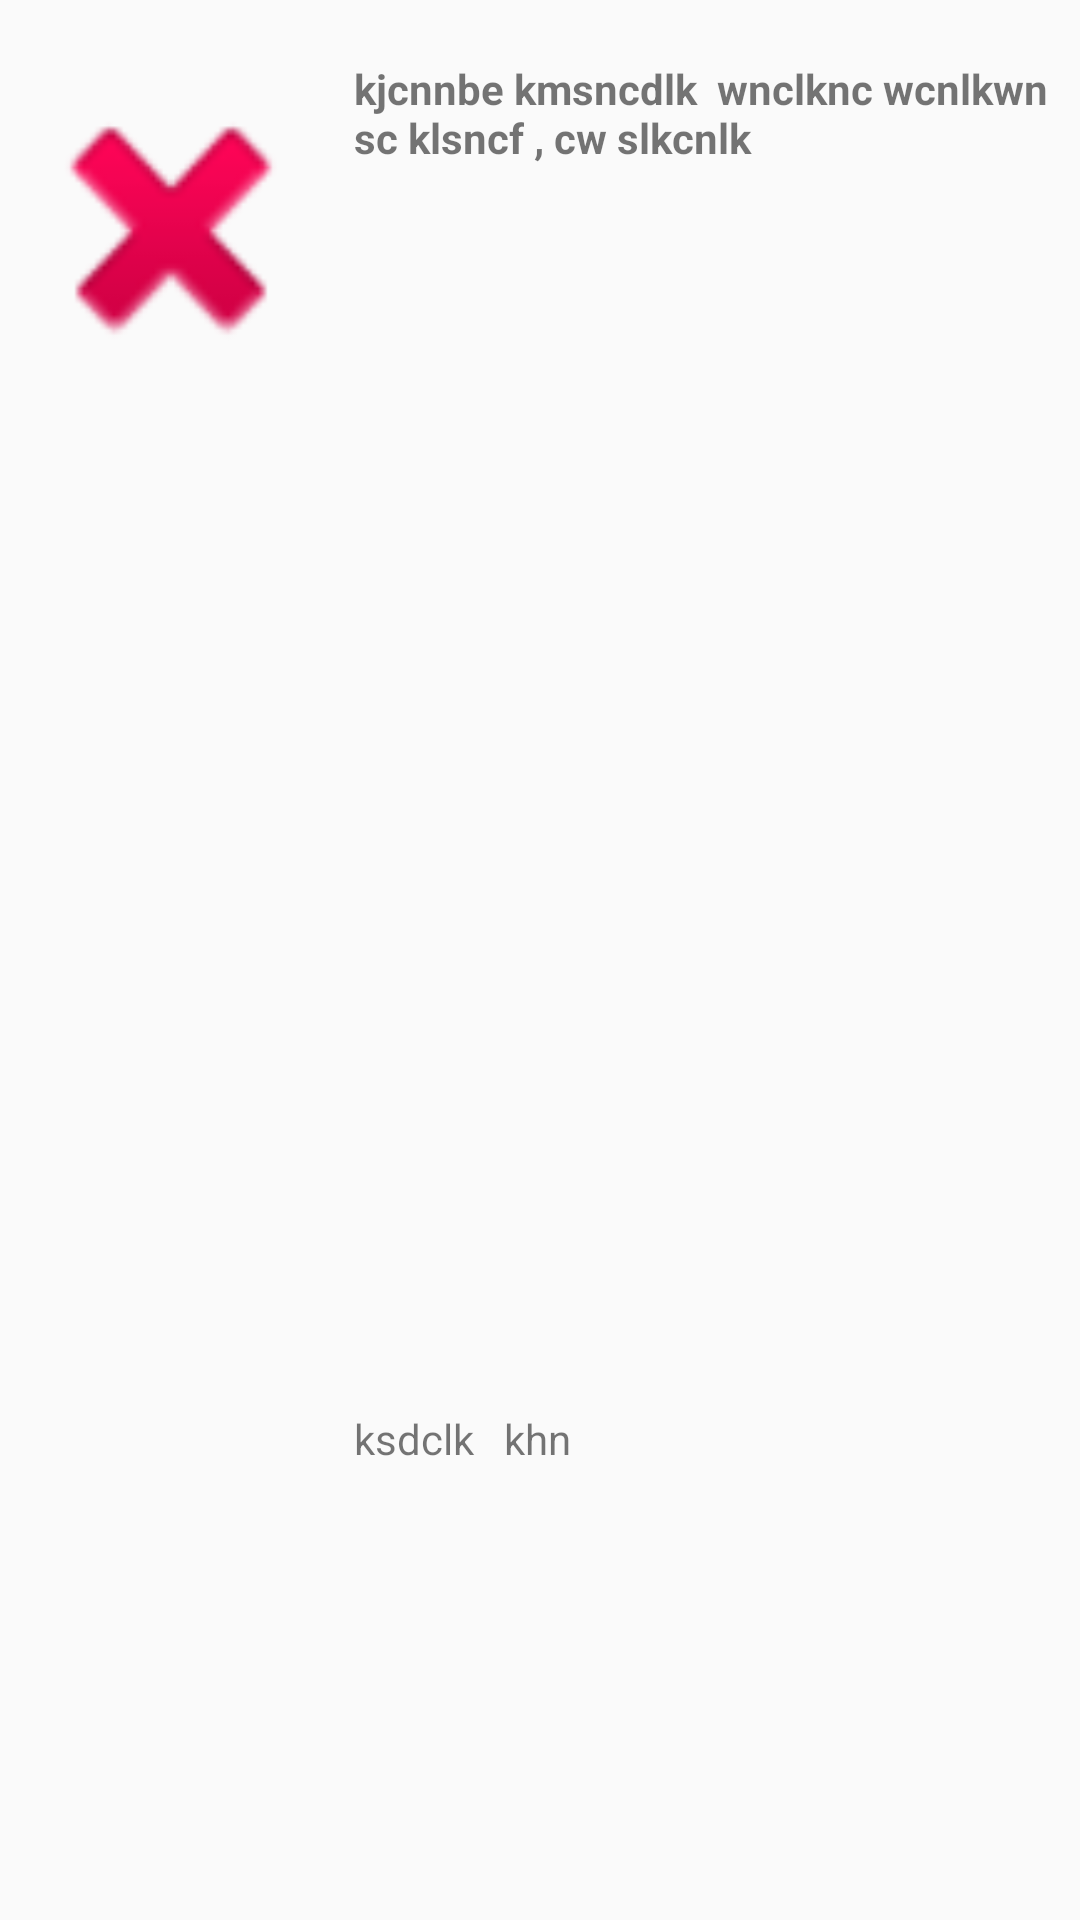

Named icons in this screenshot (1080*1920) and their centers, (x,y):
delete: (171,229)
